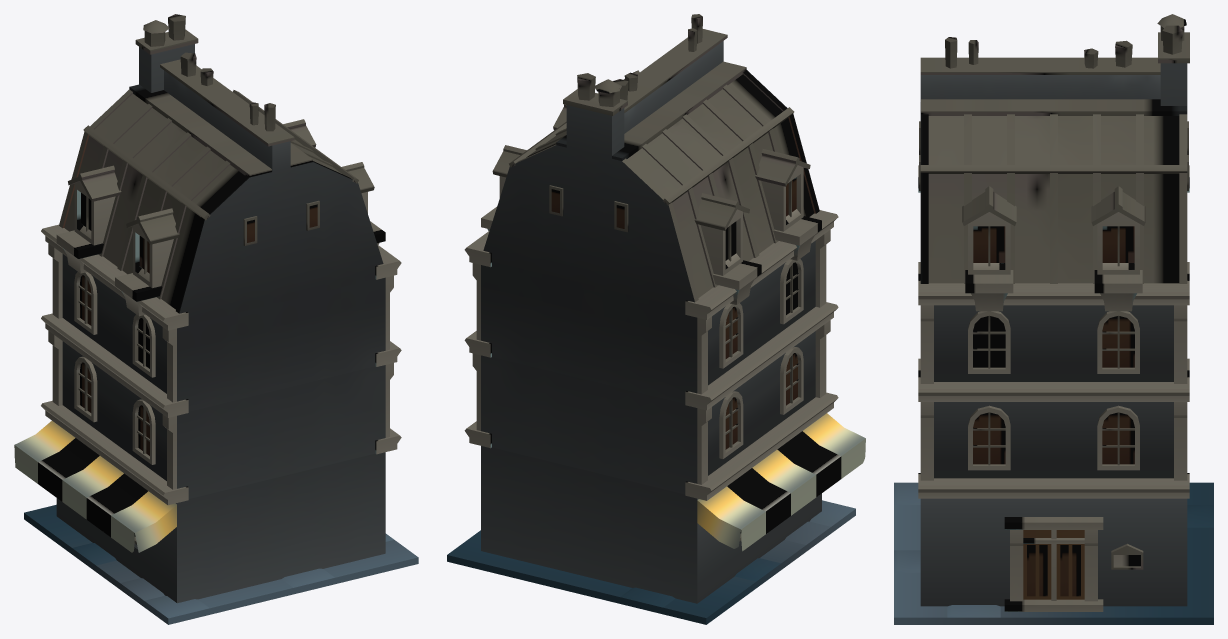
File: Building_2A.fbx
3 views of the same model, side by side, from view 1: azimuth 30°, elevation 25°; view 2: azimuth 150°, elevation 25°; view 3: azimuth 270°, elevation 25° (orthographic). The views are drawn at different scales.
Visible parts, largest first — view 1: Building_2A, Shed_2A, Window_Lights_2A; view 2: Building_2A, Shed_2A, Window_Lights_2A; view 3: Building_2A, Window_Lights_2A.
Part boxes in pixels (<box>): Building_2A: <box>24,14,418,624</box>; Shed_2A: <box>14,421,176,552</box>; Window_Lights_2A: <box>81,193,149,536</box>; Building_2A: <box>447,14,855,624</box>; Shed_2A: <box>697,413,865,551</box>; Window_Lights_2A: <box>725,221,797,533</box>; Building_2A: <box>894,14,1213,624</box>; Window_Lights_2A: <box>973,316,1005,367</box>.
Size of the model in its own units: 13.03 by 22.24 by 12.
